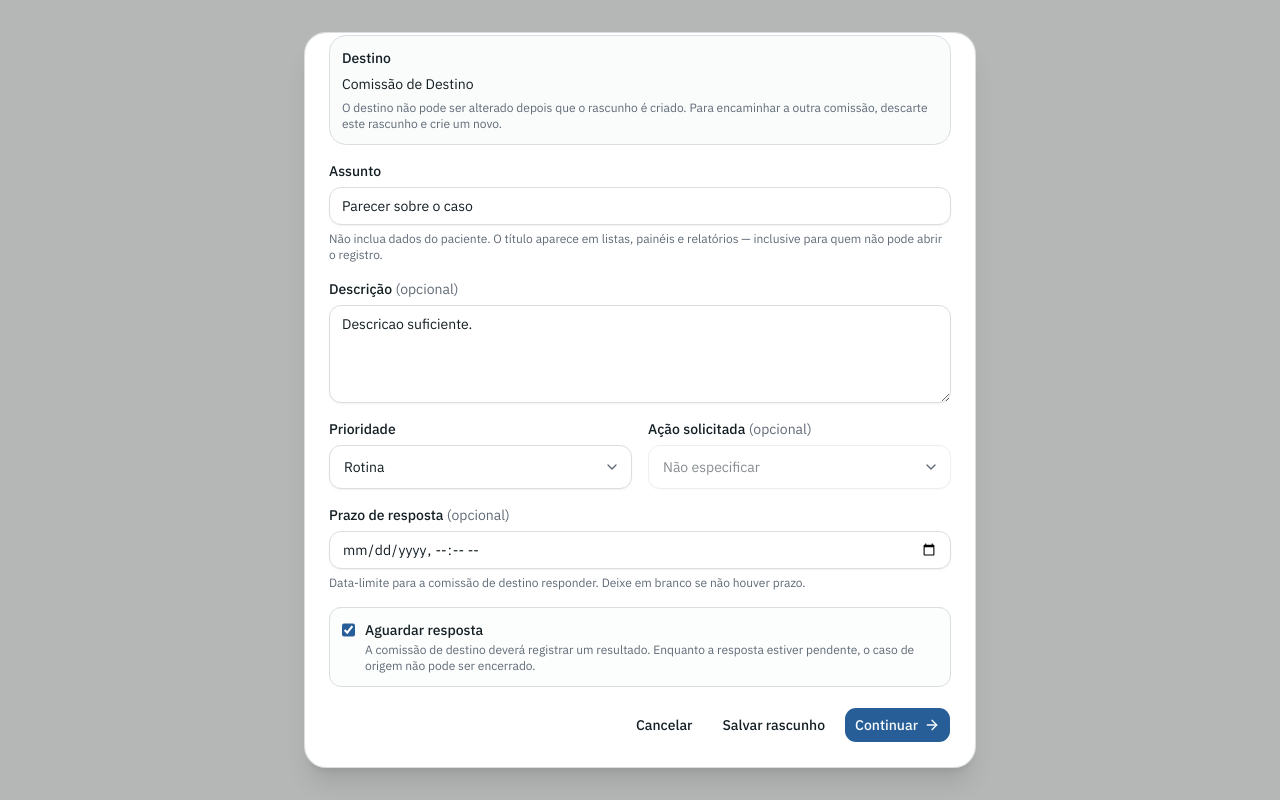
Test: referral wizard — PHI fail-closed on a resumed draft › 1 refuses the flush when the prefill read failed, even though the buffer carries data from the safety-event prefill
The width and height of the screenshot is (1280, 800).
(page scrolled)
Click the button "Continuar".
click(898, 725)  # box left=844, top=707, right=951, bottom=743
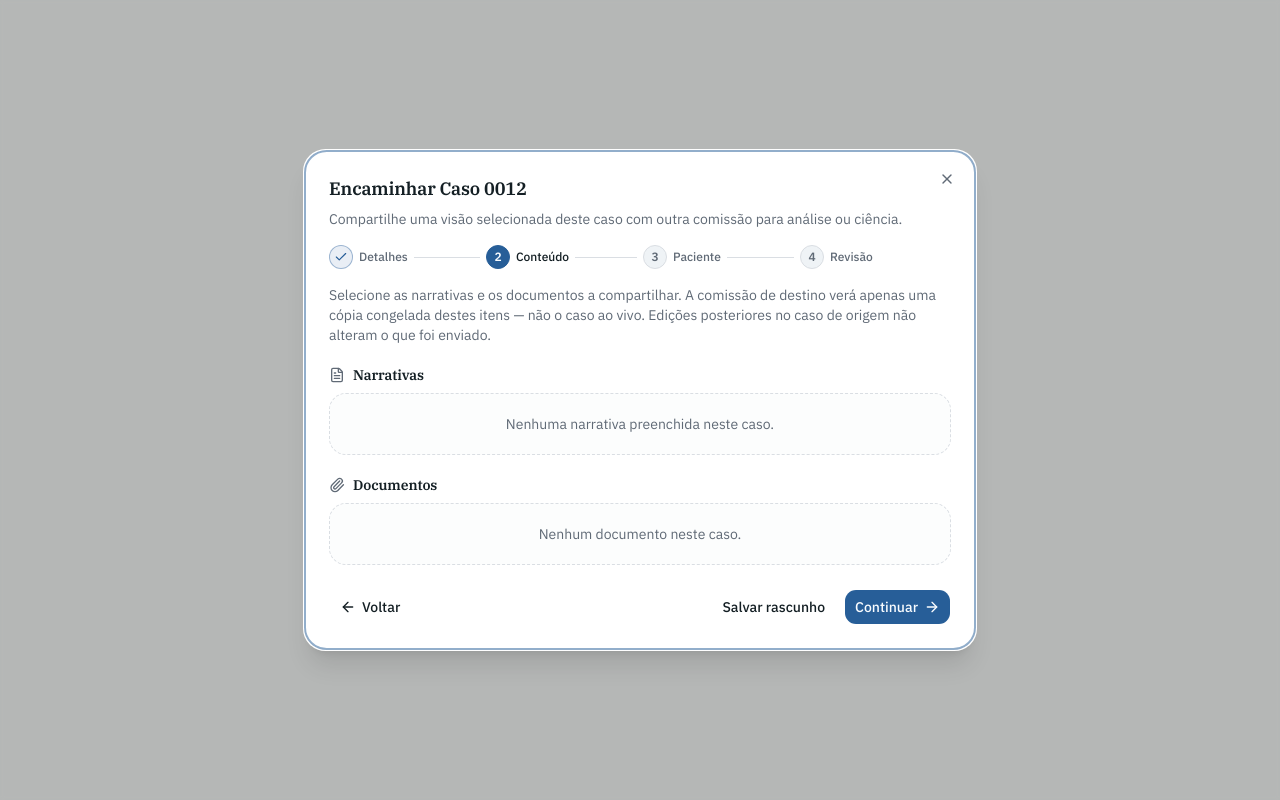
Click the button "Continuar".
click(898, 607)  # box left=844, top=589, right=951, bottom=625
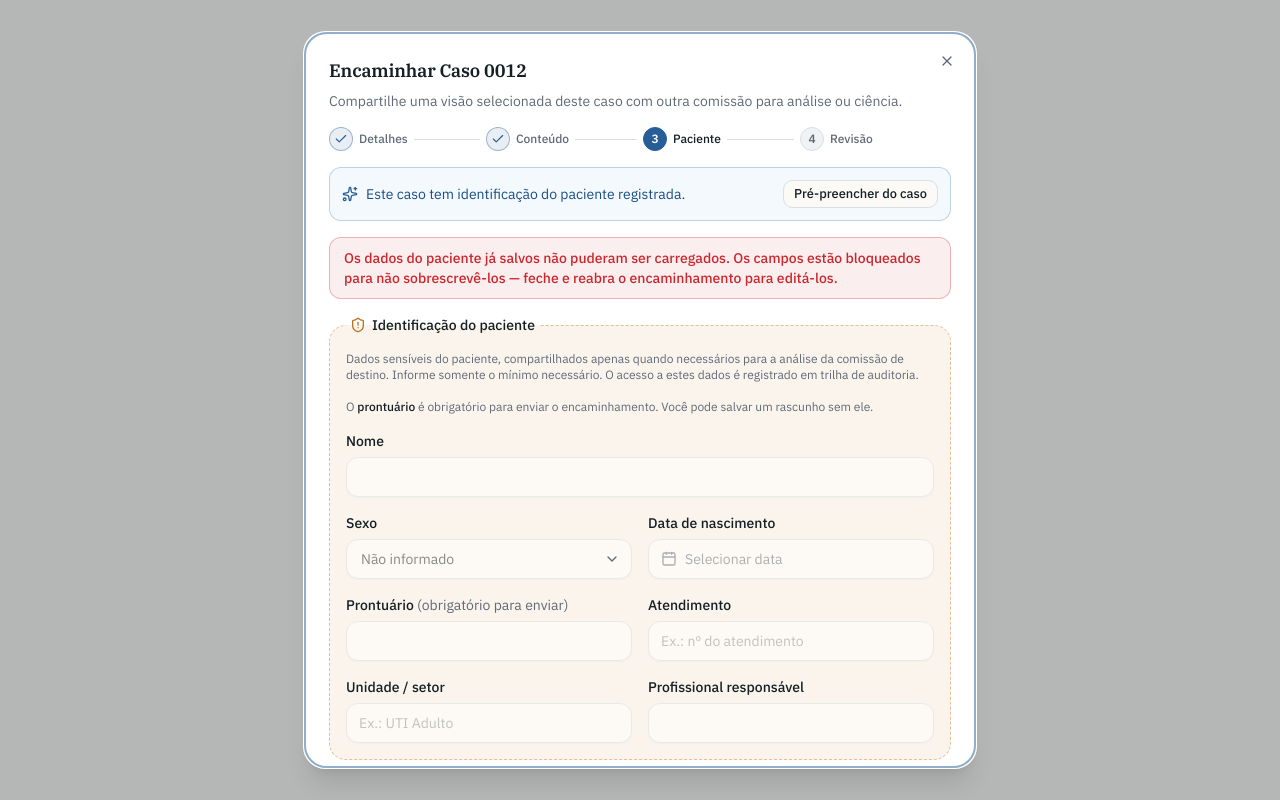
Check: the text "Os dados do paciente já salvos não puderam ser carregados. Os campos estão bloqueados para não sobrescrevê-los — feche e" is shown, box left=344, top=249, right=921, bottom=287
Click the button "Pré-preencher do caso".
click(861, 194)  # box left=783, top=180, right=938, bottom=208
(page scrolled)
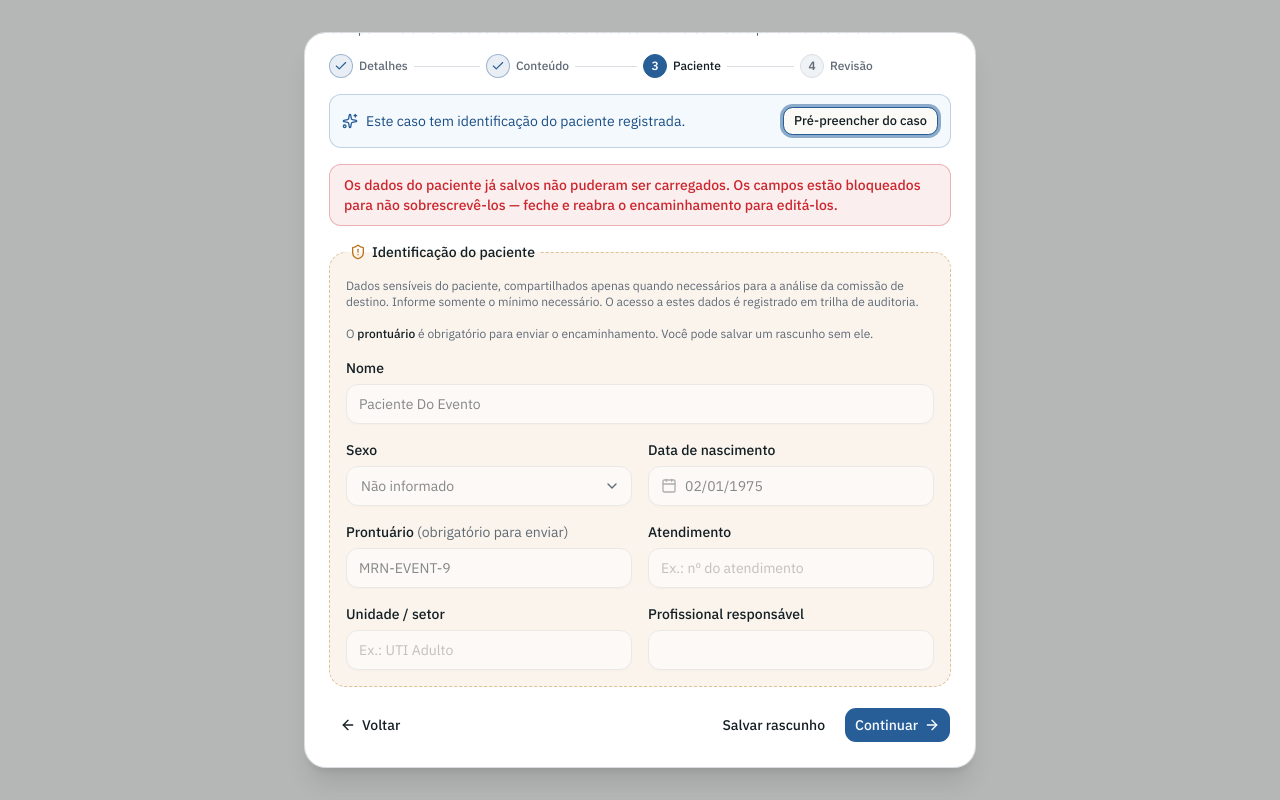
Click the button "Salvar rascunho".
click(774, 725)  # box left=712, top=707, right=836, bottom=743
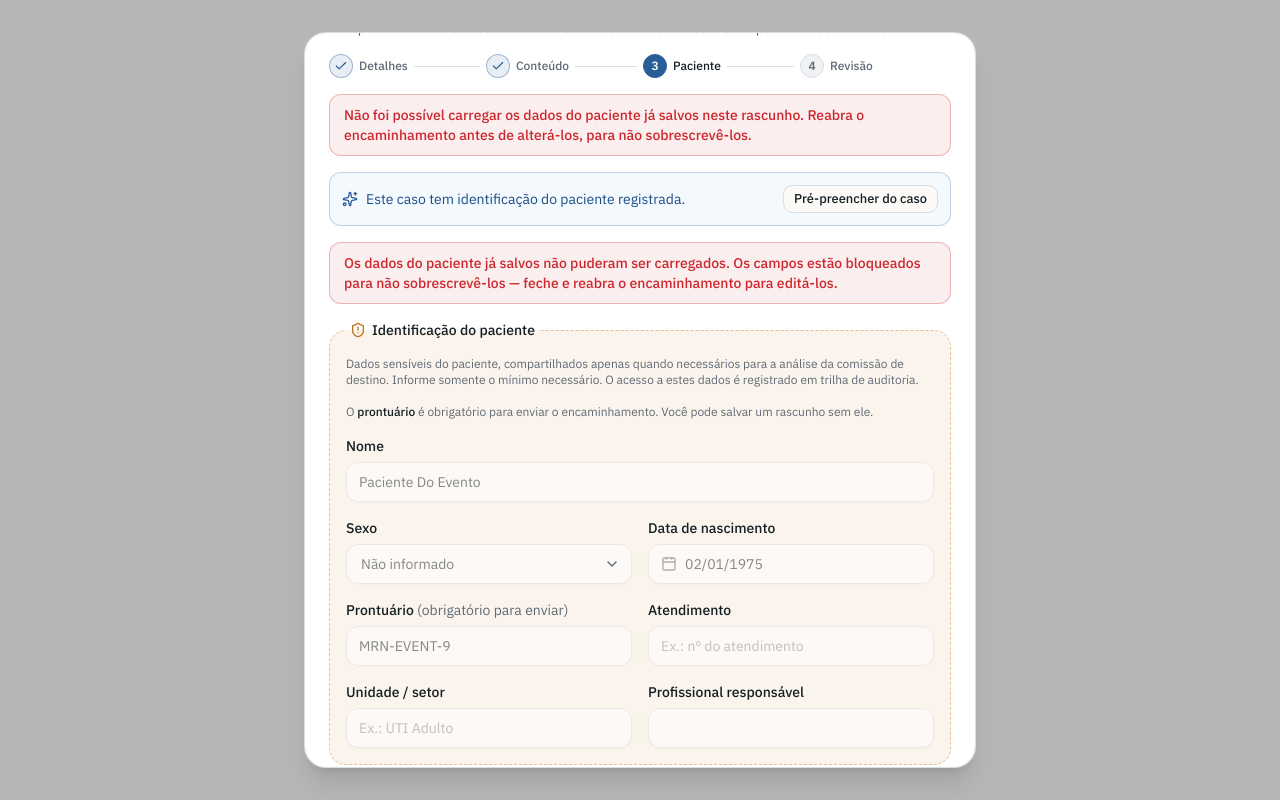
Check: the text "Não foi possível carregar os dados do paciente já salvos neste rascunho. Reabra o encaminhamento antes de alterá-los, pa" is shown, box left=344, top=106, right=864, bottom=144
